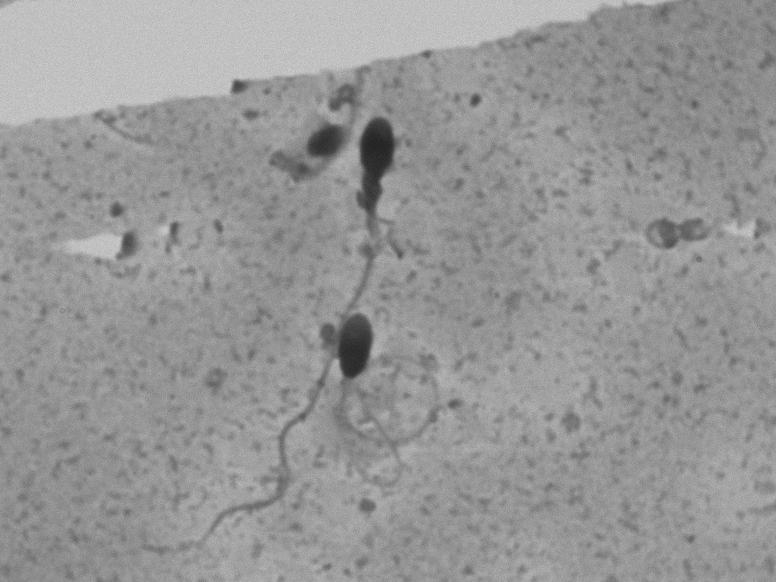Abnormal: (311, 110, 478, 300), (313, 303, 462, 484)
